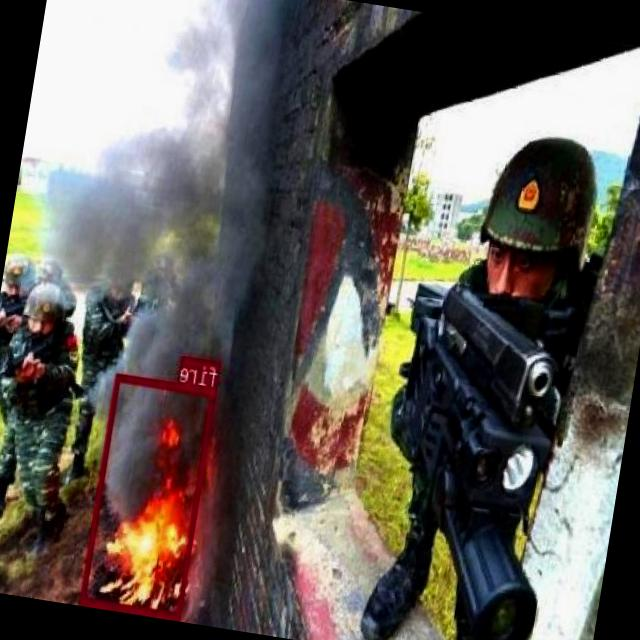fire: (82, 373, 219, 620)
